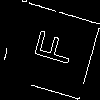F: (25, 25, 75, 68)
